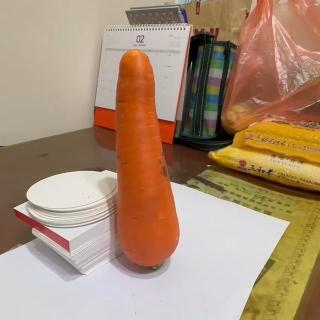carrot: (114, 48, 181, 268)
